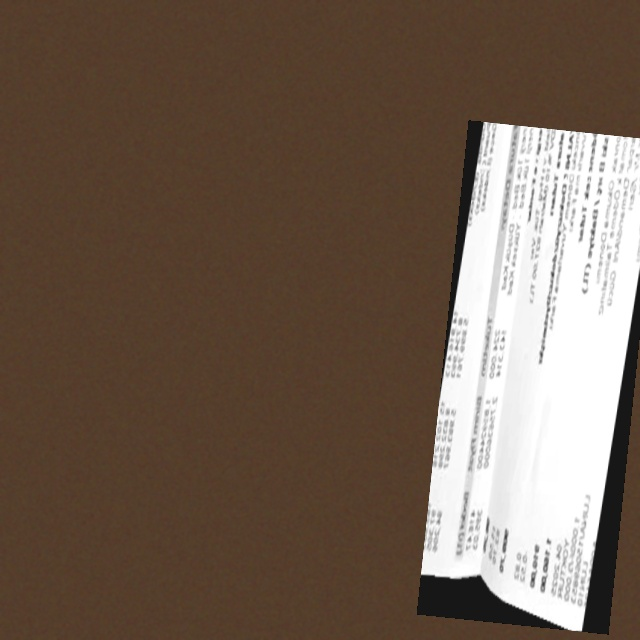electricity-bill: (416, 120, 640, 635)
